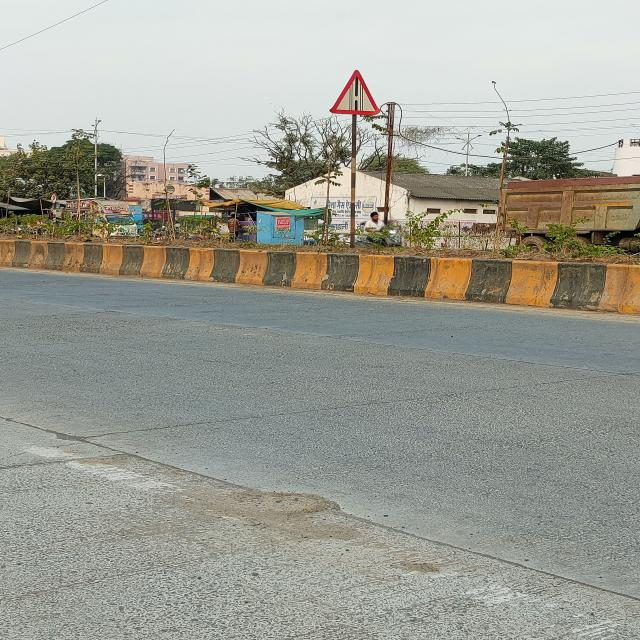GAP_IN_MEDIAN: (329, 70, 382, 116)
